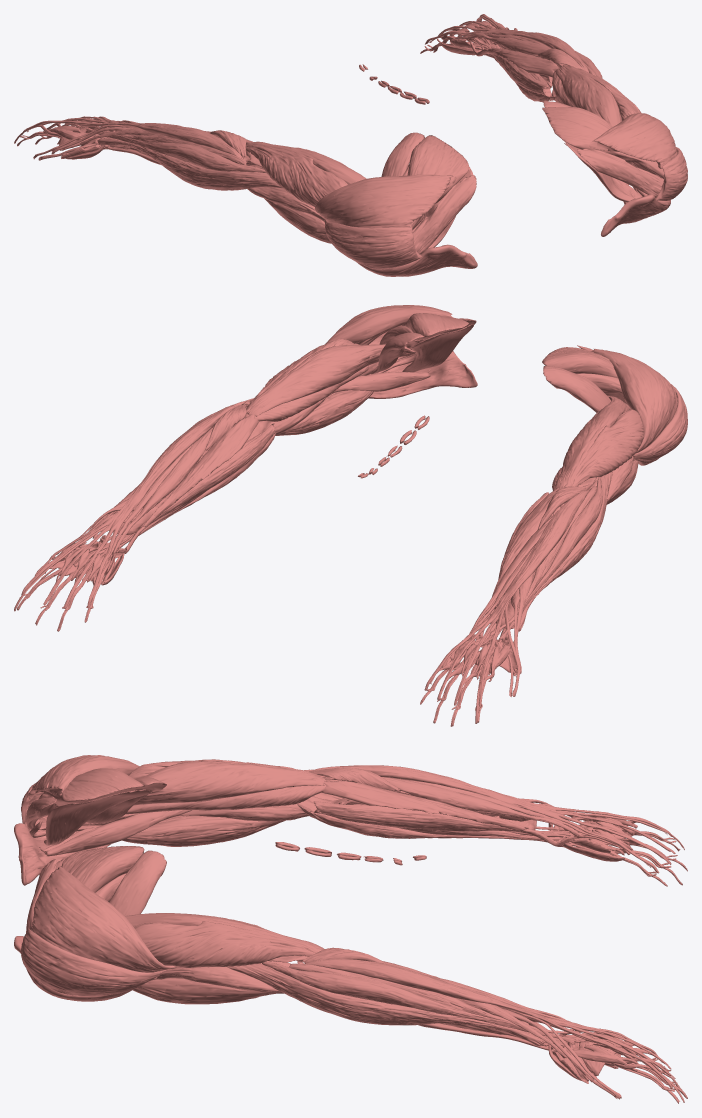
File: upperlimb__muscular.089e33202d.glb
3 views of the same model, one above another, from view 1: azimuth 30°, elevation 25°; view 2: azimuth 150°, elevation 25°; view 3: azimuth 270°, elevation 25° (orthographic). The views are drawn at different scales.
Parts seen in each view (by area): view 1: FMA34684, FMA34682, FMA37697, FMA34685, FMA38486, FMA32548, FMA32547, FMA37700, FMA32544, FMA38501, FMA38495, FMA32545 (+18 smaller); view 2: FMA37700, FMA38501, FMA34684, FMA38502, FMA37697, FMA38620, FMA34685, FMA34681, FMA37699, FMA38618, FMA37685, FMA38495 (+22 smaller); view 3: FMA34685, FMA37698, FMA37699, FMA38487, FMA34683, FMA38502, FMA38501, FMA38496, FMA37684, FMA38617, FMA38619, FMA37695 (+29 smaller).
Boxes of the visible parts, left/top/right/bottom form: FMA34684: left=315, top=174, right=456, bottom=229; FMA34682: left=324, top=219, right=421, bottom=268; FMA37697: left=245, top=142, right=348, bottom=206; FMA34685: left=589, top=113, right=677, bottom=168; FMA38486: left=97, top=138, right=282, bottom=190; FMA32548: left=542, top=107, right=664, bottom=178; FMA32547: left=407, top=135, right=468, bottom=229; FMA37700: left=555, top=66, right=621, bottom=126; FMA32544: left=413, top=175, right=476, bottom=254; FMA38501: left=21, top=116, right=242, bottom=158; FMA38495: left=85, top=128, right=265, bottom=172; FMA32545: left=577, top=148, right=663, bottom=197; FMA37700: left=246, top=344, right=415, bottom=416; FMA38501: left=424, top=490, right=588, bottom=707; FMA34684: left=591, top=349, right=677, bottom=453; FMA38502: left=21, top=405, right=239, bottom=608; FMA37697: left=564, top=409, right=644, bottom=487; FMA38620: left=143, top=414, right=259, bottom=527; FMA34685: left=325, top=305, right=452, bottom=345; FMA34681: left=367, top=351, right=477, bottom=398; FMA37699: left=555, top=396, right=630, bottom=489; FMA38618: left=113, top=425, right=275, bottom=553; FMA37685: left=275, top=369, right=430, bottom=435; FMA38495: left=499, top=477, right=602, bottom=640; FMA34685: left=30, top=866, right=176, bottom=972; FMA37698: left=134, top=921, right=322, bottom=967; FMA37699: left=133, top=761, right=326, bottom=805; FMA38487: left=226, top=963, right=546, bottom=1046; FMA34683: left=21, top=929, right=160, bottom=995; FMA38502: left=304, top=959, right=675, bottom=1088; FMA38501: left=309, top=765, right=675, bottom=873; FMA38496: left=262, top=962, right=576, bottom=1044; FMA37684: left=39, top=815, right=285, bottom=853; FMA38617: left=314, top=801, right=574, bottom=846; FMA38619: left=322, top=781, right=526, bottom=831; FMA37695: left=125, top=780, right=330, bottom=814.
Size of the model in its own units: 639 by 199 by 690.
